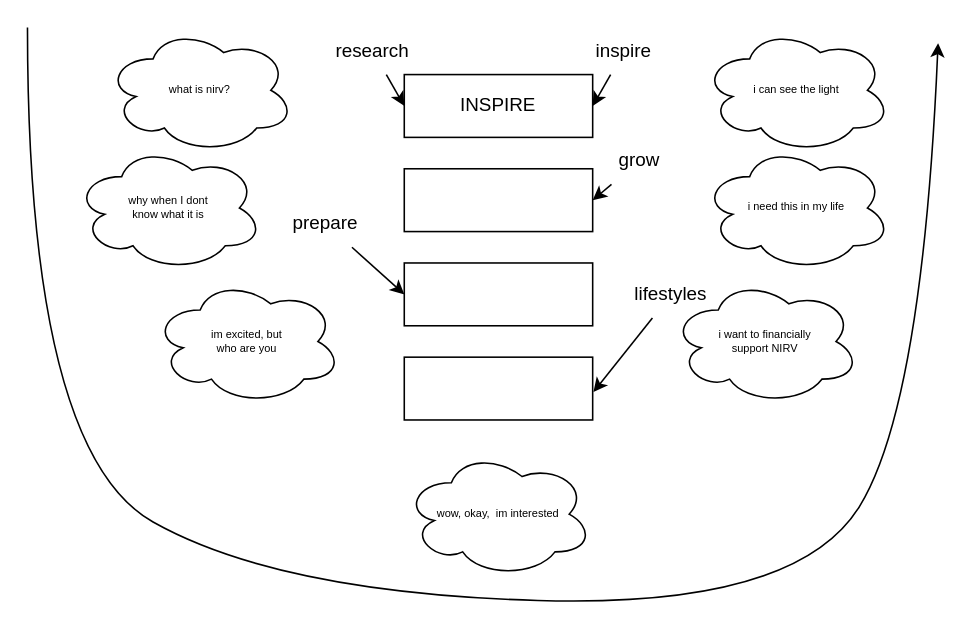
Some shapes in this 972 by 630 pixel diagram are drawn without their labels. The box of each missing label's shape, as (x1, y1, x2, y2) in pixels:
ABOUT US: (403, 356, 593, 420)
CONNECT: (403, 167, 593, 232)
GET INVOLVED: (403, 261, 593, 326)
